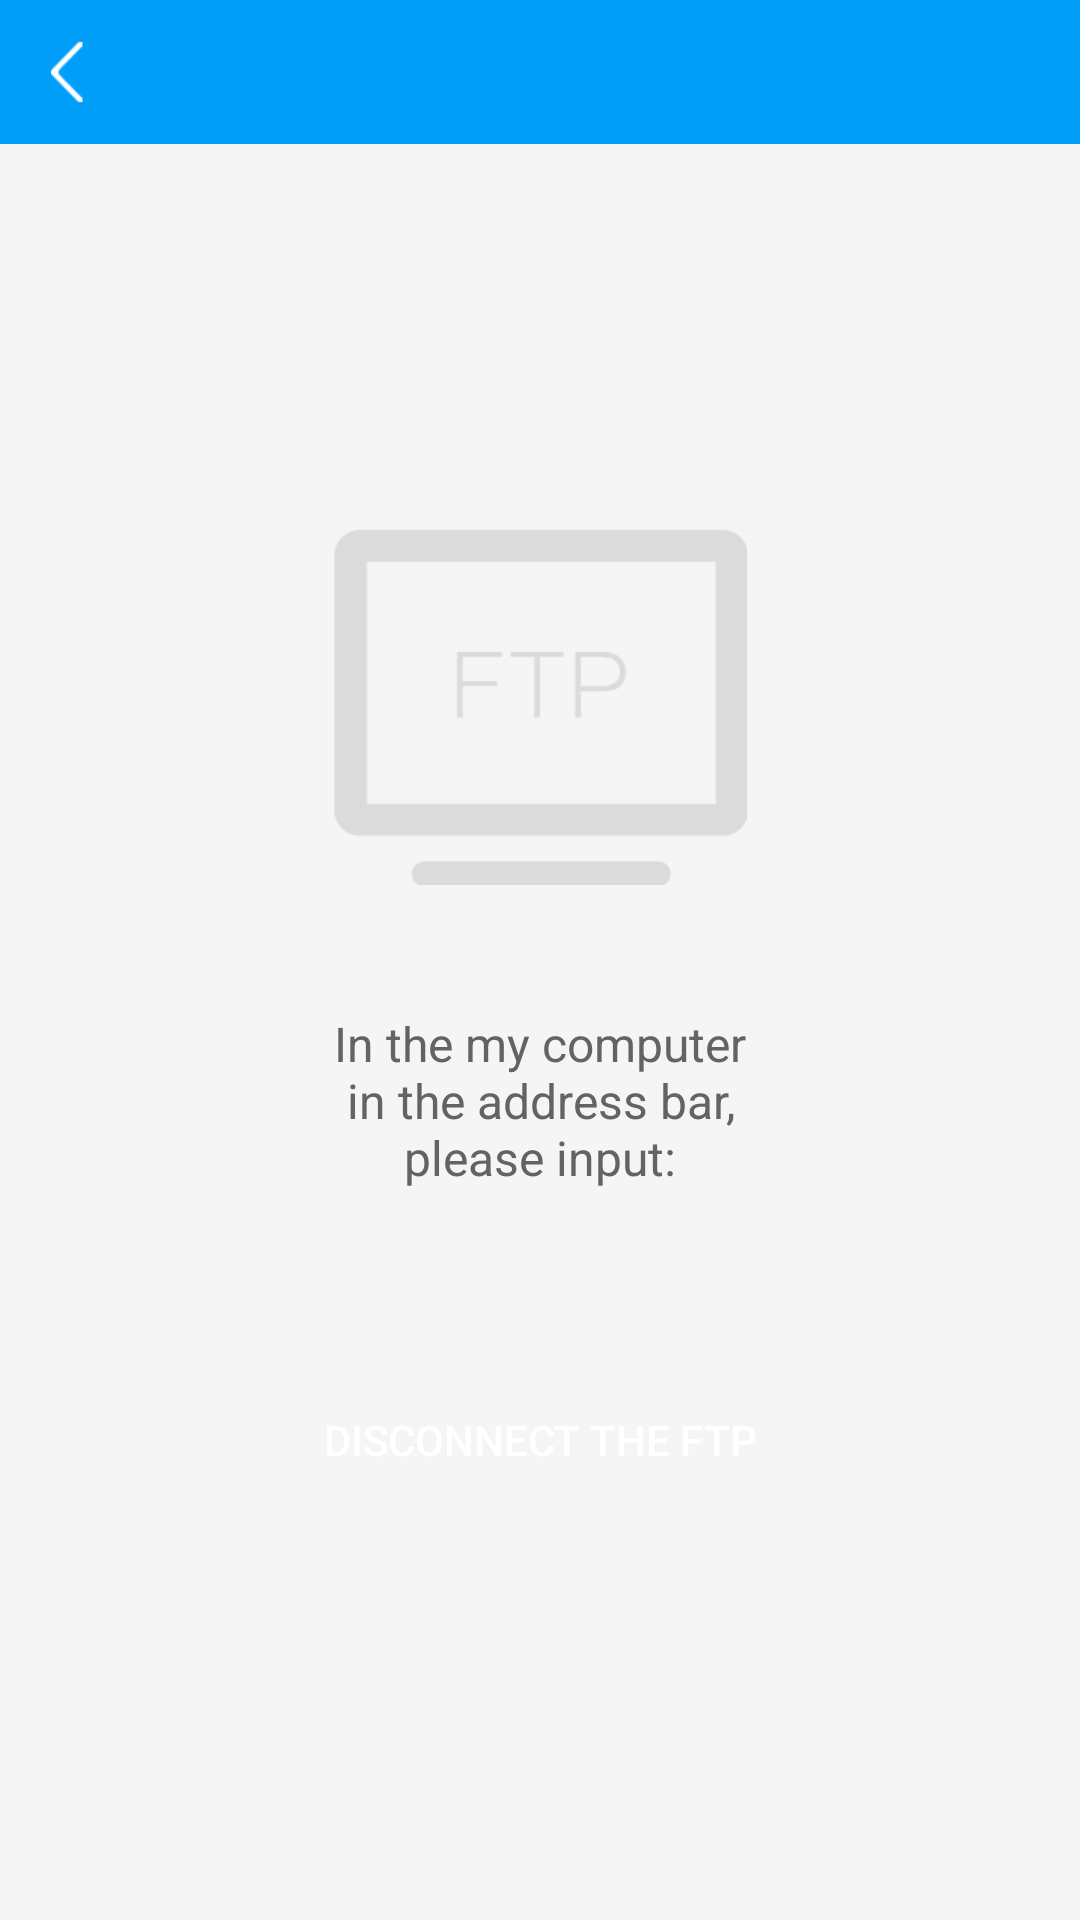

Icons on this 1080w x 1920h Android screen, each with its box as (x1, y1, x2, y2):
back: (51, 41, 83, 103)
